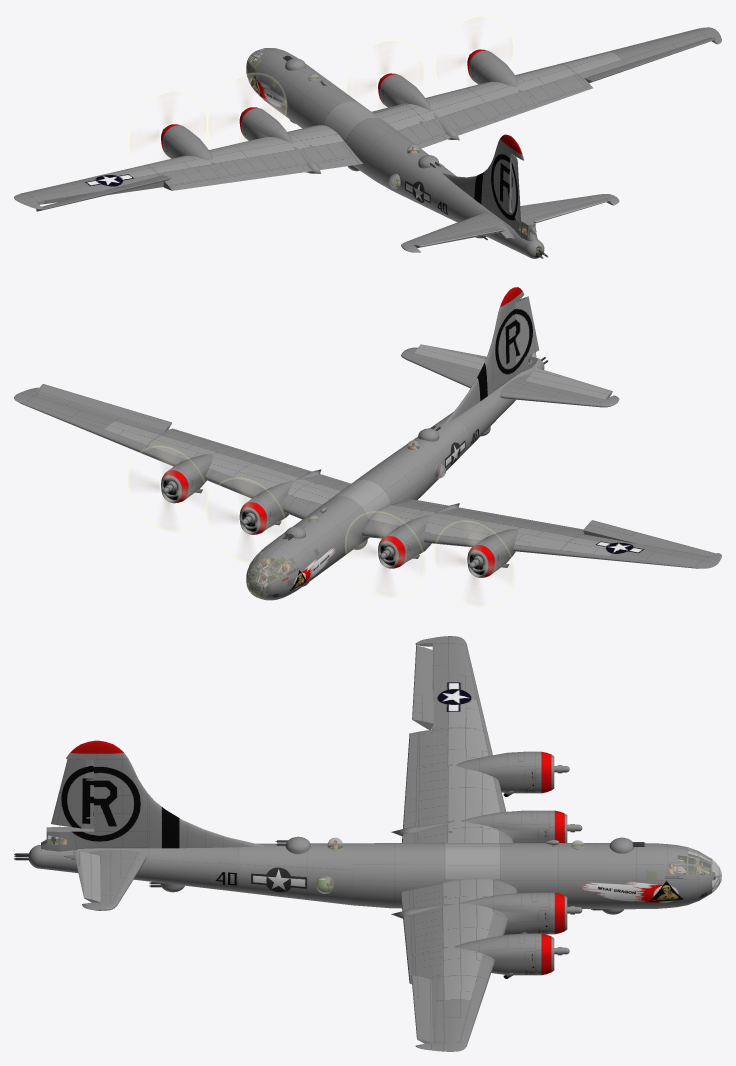
The model's file is b29_flyt_6bg_npa42.glb.
The picture shows the model from 3 angles, top to bottom: view 1: azimuth 30°, elevation 25°; view 2: azimuth 150°, elevation 25°; view 3: azimuth 270°, elevation 25°; orthographic projection. The views are drawn at different scales.
Parts seen in each view (by area): view 1: WingR, WingL, fuse2, tail_vert, fuse3, tail_horz, fuse1, fuse4, prop2, prop1, engine4, prop3 (+9 smaller); view 2: WingR, WingL, fuse2, tail_vert, tail_horz, fuse1, fuse3, prop3, prop1, prop2, tail_elevator, prop4 (+9 smaller); view 3: WingL, fuse2, WingR, tail_vert, fuse1, fuse3, fuse4, engine4, engine2, engine1, engine3, tail_rudder (+6 smaller).
Boxes of the visible parts, left/top/right/bottom form: WingR: left=371, top=27, right=721, bottom=148; WingL: left=14, top=125, right=362, bottom=209; fuse2: left=282, top=72, right=418, bottom=189; tail_vert: left=442, top=134, right=537, bottom=241; fuse3: left=383, top=145, right=456, bottom=214; tail_horz: left=401, top=194, right=619, bottom=252; fuse1: left=246, top=48, right=319, bottom=117; fuse4: left=436, top=181, right=538, bottom=256; prop2: left=434, top=15, right=514, bottom=92; prop1: left=128, top=90, right=207, bottom=165; engine4: left=378, top=73, right=459, bottom=140; prop3: left=207, top=73, right=286, bottom=147; WingR: left=14, top=387, right=350, bottom=519; WingL: left=362, top=499, right=721, bottom=568; fuse2: left=292, top=452, right=427, bottom=570; tail_vert: left=442, top=287, right=537, bottom=426; tail_horz: left=401, top=347, right=619, bottom=407; fuse1: left=246, top=525, right=329, bottom=600; fuse3: left=393, top=417, right=470, bottom=492; prop3: left=345, top=511, right=425, bottom=597; prop1: left=434, top=520, right=514, bottom=606; prop2: left=128, top=446, right=207, bottom=531; tail_elevator: left=414, top=344, right=612, bottom=399; prop4: left=207, top=477, right=286, bottom=563; WingL: left=402, top=636, right=513, bottom=842; fuse2: left=353, top=843, right=597, bottom=908; WingR: left=400, top=878, right=517, bottom=1051; tail_vert: left=41, top=740, right=265, bottom=851; fuse1: left=597, top=843, right=712, bottom=909; fuse3: left=238, top=843, right=353, bottom=905; fuse4: left=40, top=845, right=238, bottom=891; engine4: left=391, top=892, right=567, bottom=935; engine2: left=454, top=933, right=554, bottom=975; engine1: left=456, top=751, right=554, bottom=793; engine3: left=391, top=810, right=567, bottom=842; tail_rudder: left=51, top=759, right=93, bottom=828.
Bounding box in the file's own units: 141 × 28.65 × 102.
35 materials, 24 textured.
